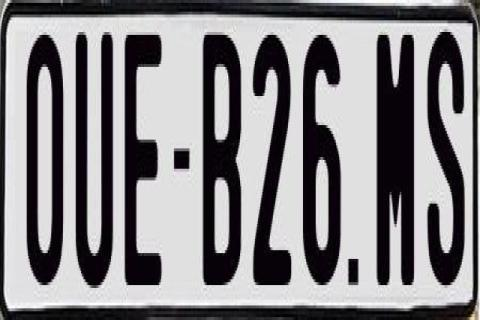0: (250, 29, 291, 285), (27, 26, 66, 294), (302, 35, 340, 303)
B: (201, 27, 241, 280)
E: (124, 35, 164, 288)
M: (376, 35, 420, 299)
S: (427, 32, 464, 285)
U: (73, 32, 113, 294)
